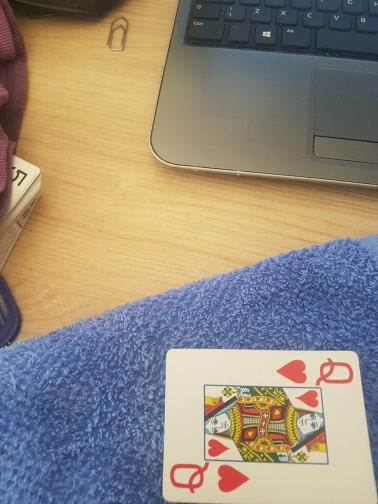queen: (162, 348, 378, 502)
